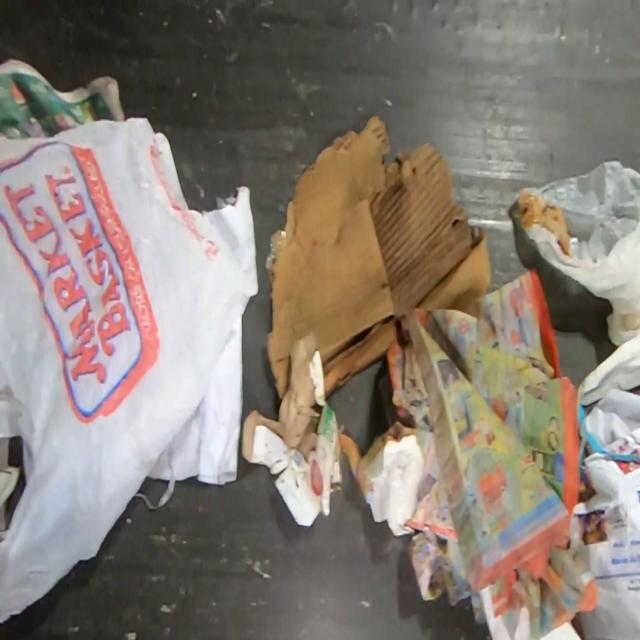cardboard: (266, 112, 492, 400), (240, 329, 344, 527)
soft_plastic: (0, 113, 252, 624), (522, 157, 640, 348), (580, 436, 640, 536)
